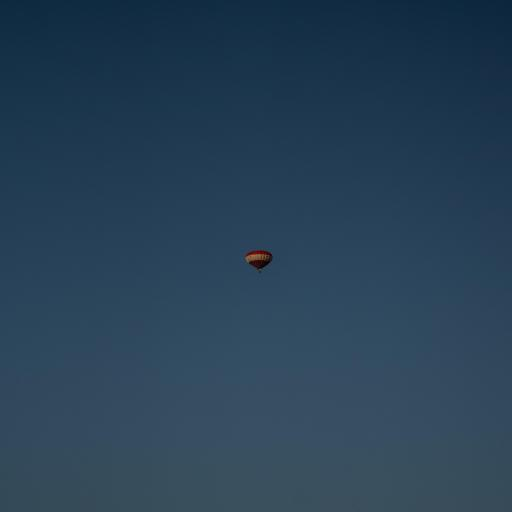hot air ballon: (239, 244, 278, 278)
